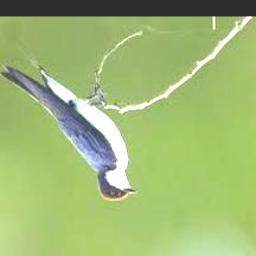Swallow: (0, 63, 139, 200)
